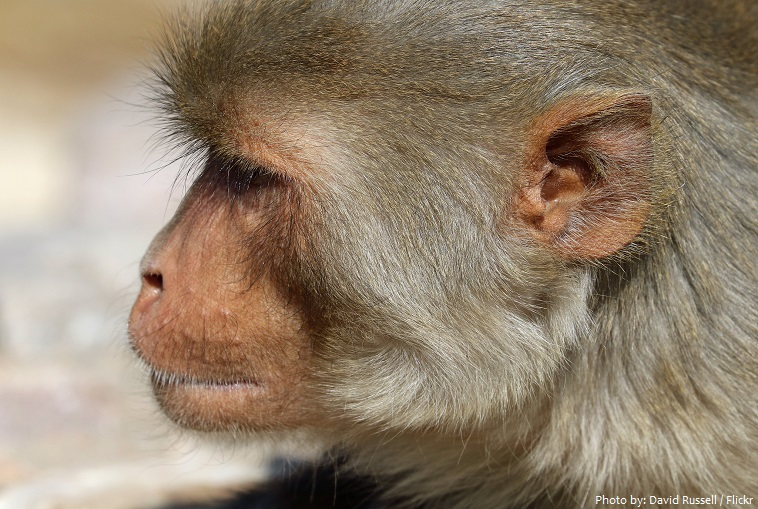monkey: (91, 2, 758, 509)
